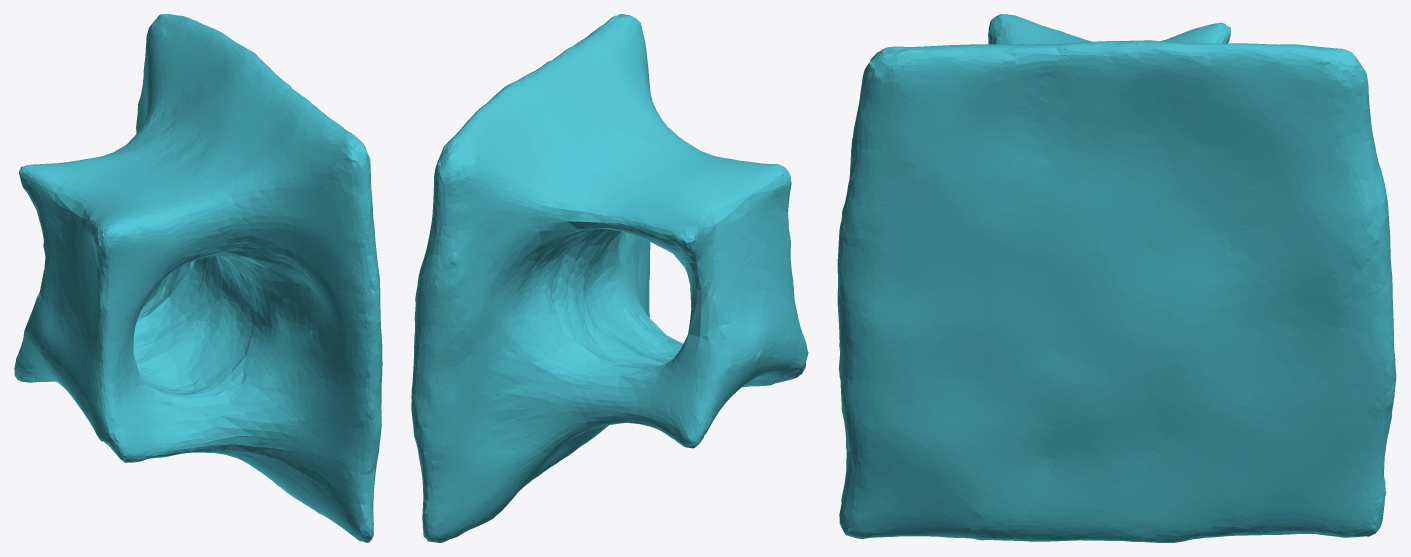
3 views of the same model, side by side, from view 1: azimuth 30°, elevation 25°; view 2: azimuth 150°, elevation 25°; view 3: azimuth 270°, elevation 25° (orthographic). The views are drawn at different scales.
Visible parts, largest first — view 1: Renderer Node; view 2: Renderer Node; view 3: Renderer Node.
Part boxes in pixels (x1,y1,x2,y2): Renderer Node: [14, 14, 382, 542]; Renderer Node: [411, 14, 808, 542]; Renderer Node: [837, 14, 1396, 542].
Size of the model in its own units: 0.3967 by 0.6278 by 0.6326.
Materials: 1 (1 with a texture image).
